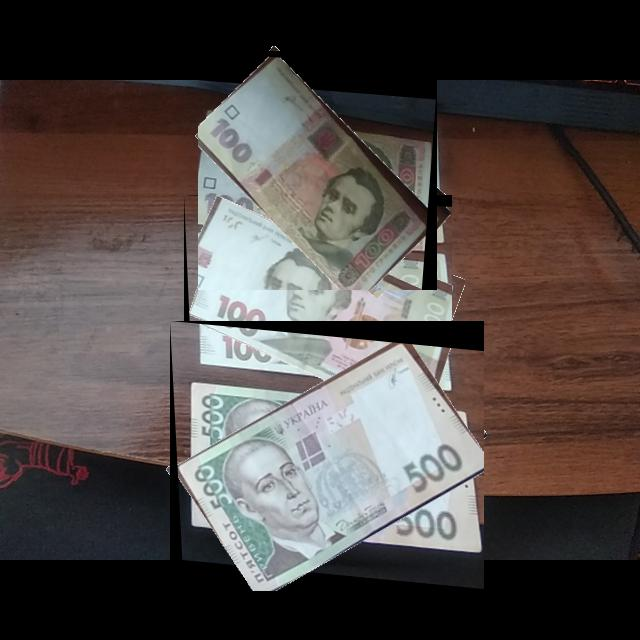100uah: (198, 56, 430, 291), (189, 197, 453, 401)
500uah: (177, 339, 485, 592)
